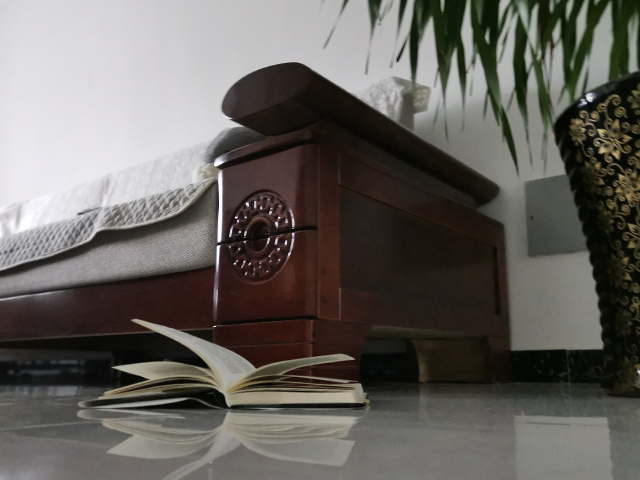book: (74, 316, 369, 411)
sofa: (1, 59, 516, 395)
